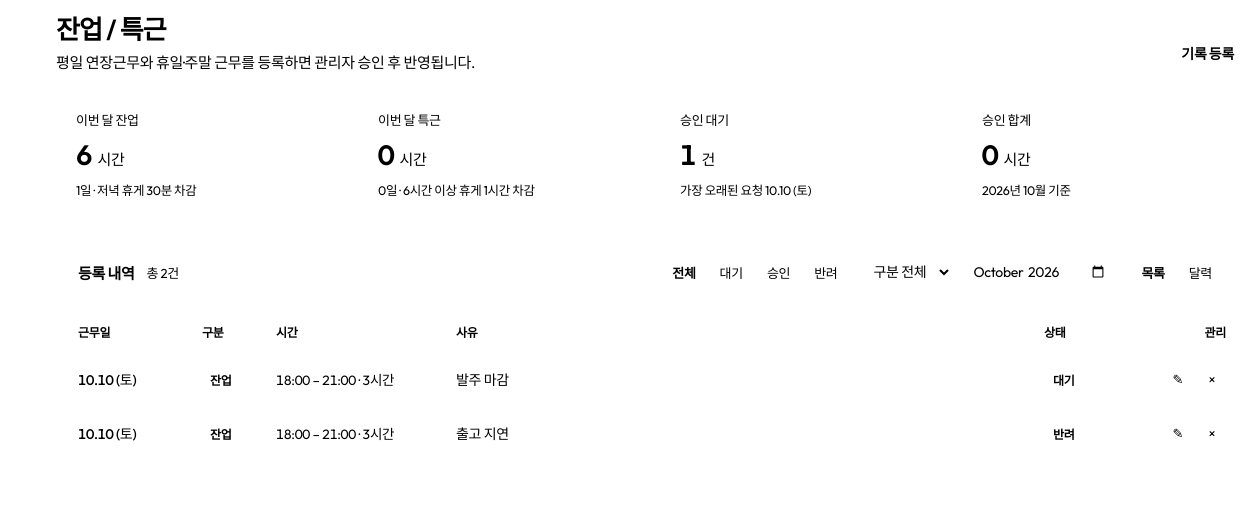
Scenario: OvertimeRecordsPage — 필터 › 상태로 거른다
Expected: the text "발주 마감" is shown, [456, 371, 509, 389]
Click the button "승인".
click(779, 272)  # box [756, 258, 801, 286]
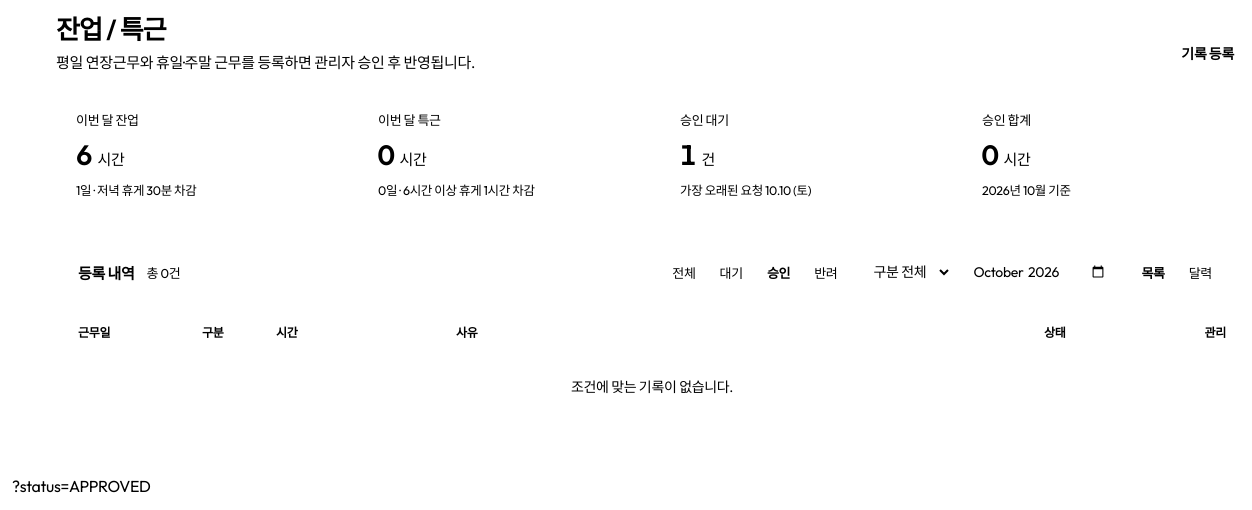
Expected: the text "조건에 맞는 기록이 없습니다." is shown, [571, 378, 733, 396]
Click the button "반려".
click(826, 272)  # box [803, 258, 848, 286]
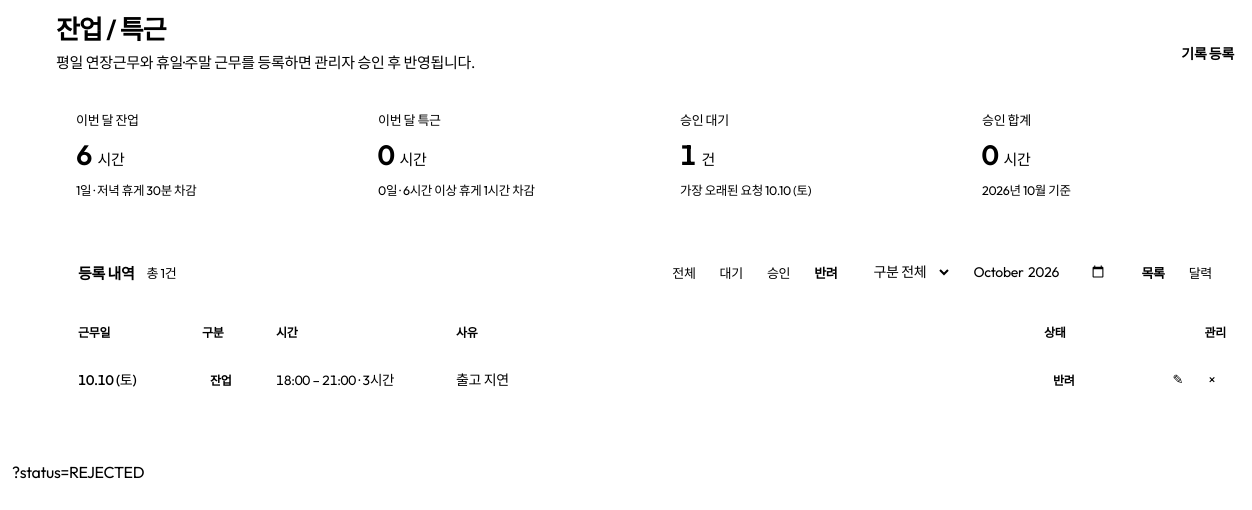
Expected: the text "출고 지연" is shown, [456, 371, 509, 389]
